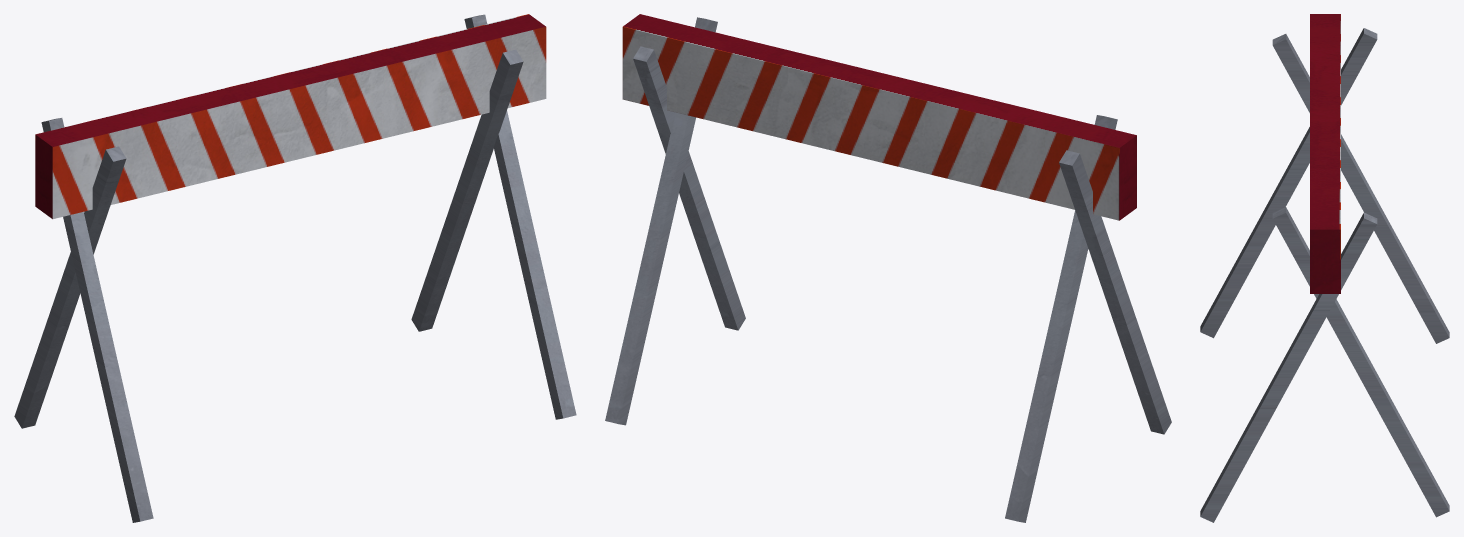
The model's file is absperrbalken.fbx.
3 renders of one model, left to right at view 1: azimuth 30°, elevation 25°; view 2: azimuth 150°, elevation 25°; view 3: azimuth 270°, elevation 25°, orthographic. The views are drawn at different scales.
Parts seen in each view (by area): view 1: pCube6; view 2: pCube6; view 3: pCube6.
Boxes of the visible parts, <box> form: pCube6: <box>14,14,576,522</box>; pCube6: <box>605,14,1171,522</box>; pCube6: <box>1200,14,1449,522</box>.
Bounding box in the file's own units: 9.11 × 6.05 × 4.45.
